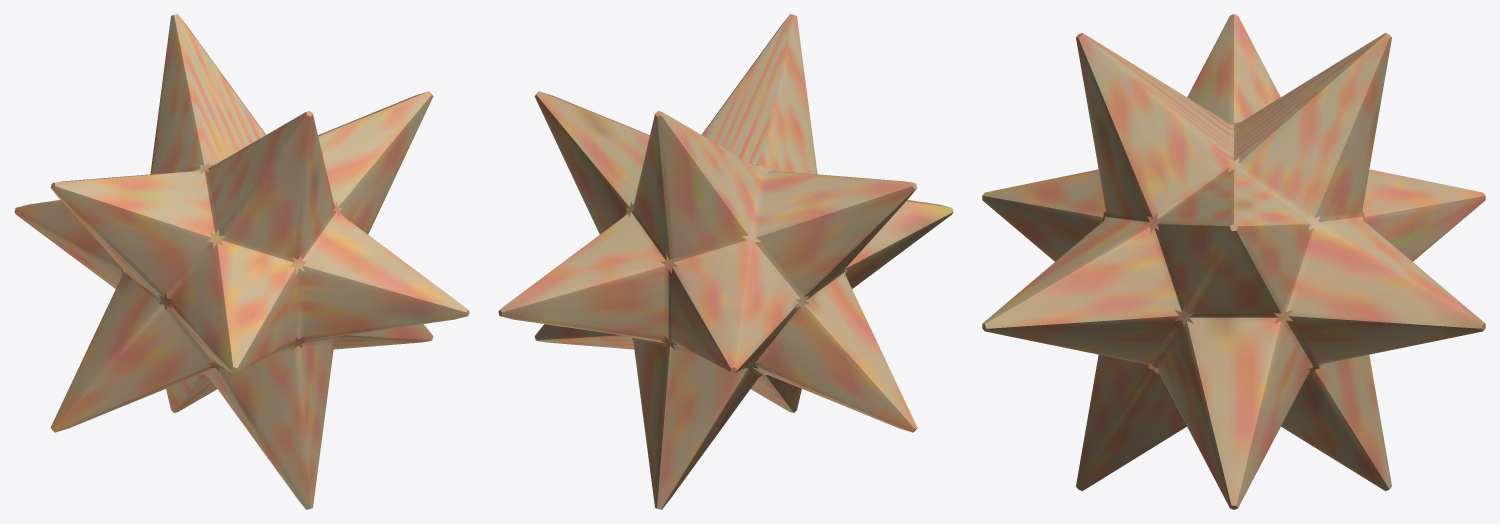
File: Star.FBX
3 views of the same model, side by side, from view 1: azimuth 30°, elevation 25°; view 2: azimuth 150°, elevation 25°; view 3: azimuth 270°, elevation 25° (orthographic). The views are drawn at different scales.
Visible parts, largest first — view 1: Hedra004; view 2: Hedra004; view 3: Hedra004.
Part boxes in pixels (bbox=[...]): Hedra004: bbox=[14, 14, 469, 509]; Hedra004: bbox=[498, 14, 953, 509]; Hedra004: bbox=[982, 14, 1485, 509].
Size of the model in its own units: 89.69 by 89.69 by 89.69.
Materials: 1 (1 with a texture image).
